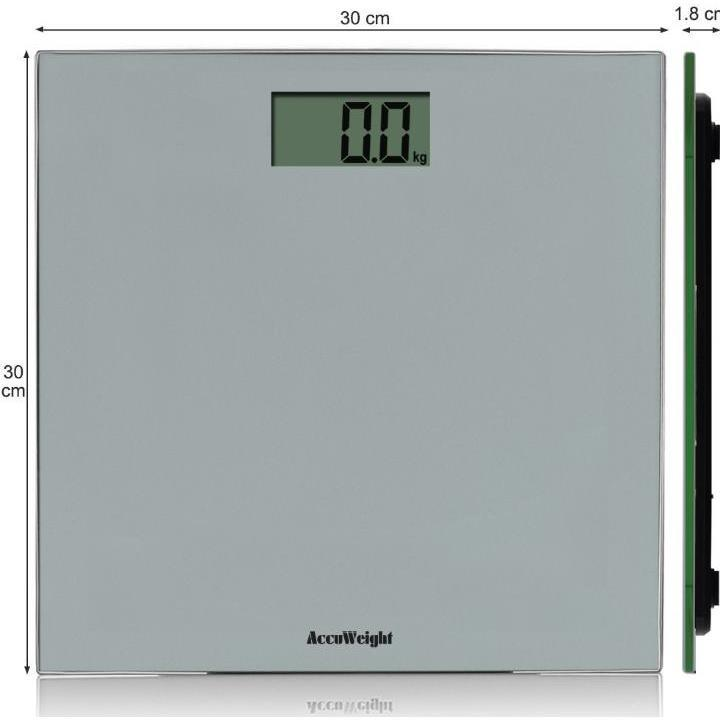LCD: (270, 90, 433, 165)
